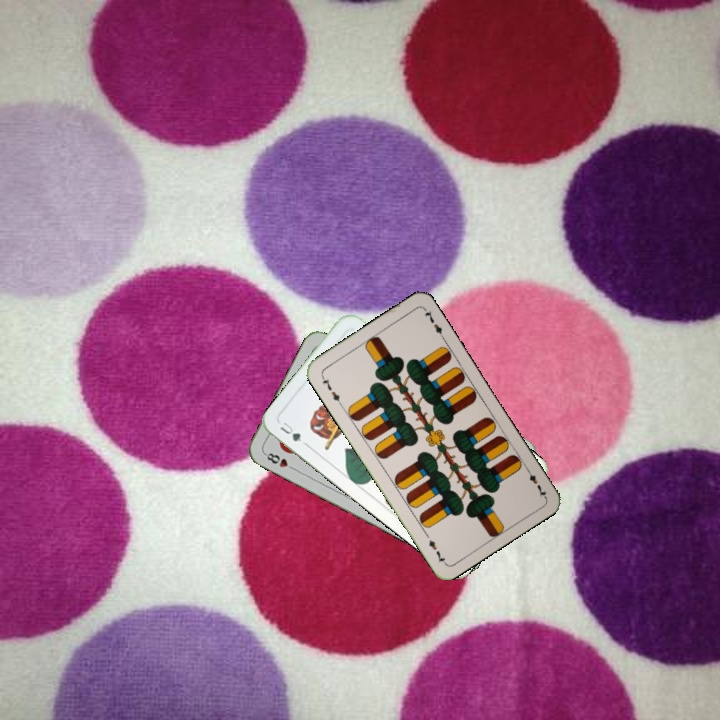E7: (317, 371, 344, 408), (522, 463, 549, 500)
GU: (276, 417, 304, 445)
H8: (260, 448, 298, 473)
